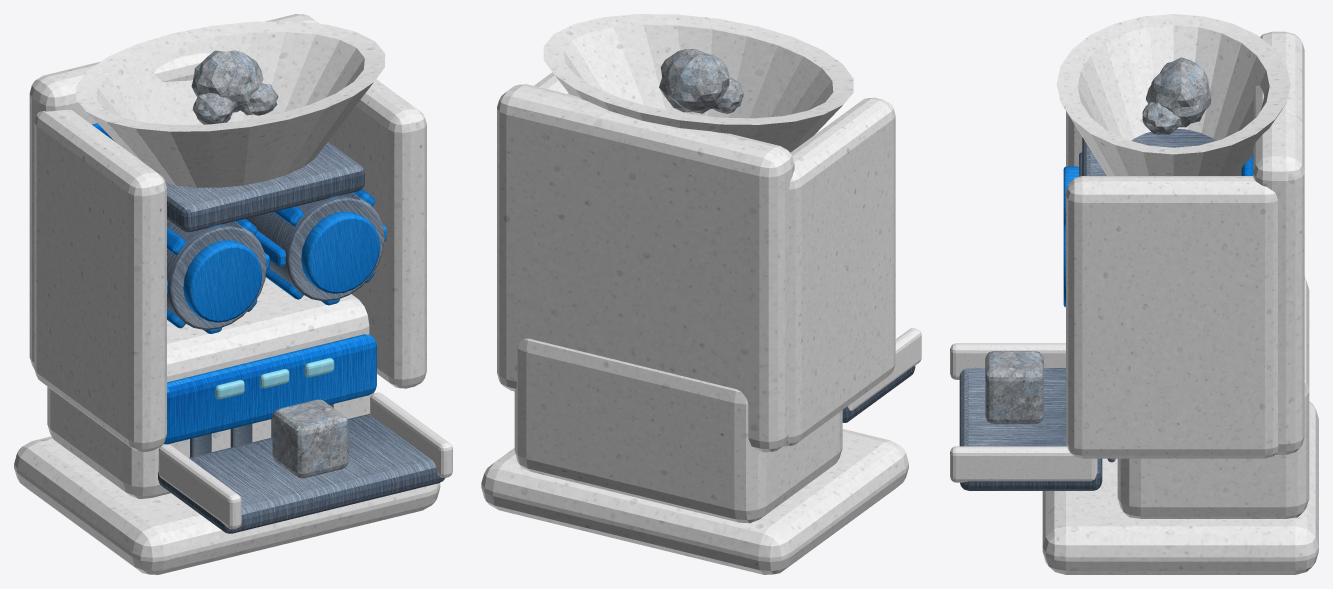
The model's file is StoneProcessor.fbx.
3 renders of one model, left to right at view 1: azimuth 30°, elevation 25°; view 2: azimuth 150°, elevation 25°; view 3: azimuth 270°, elevation 25°, orthographic.
Visible parts, largest first — view 1: Housing, RollerRight, RollerLeft, PressHead, OutputStone, FeedStone; view 2: Housing, FeedStone; view 3: Housing, OutputStone, FeedStone, PressHead, RollerLeft.
Boxes of the visible parts, left/top/right/bottom form: Housing: left=14, top=14, right=452, bottom=574; RollerRight: left=246, top=189, right=386, bottom=305; RollerLeft: left=167, top=218, right=269, bottom=333; PressHead: left=165, top=142, right=364, bottom=232; OutputStone: left=272, top=399, right=348, bottom=478; FeedStone: left=191, top=50, right=278, bottom=124; Housing: left=481, top=14, right=921, bottom=574; FeedStone: left=659, top=49, right=744, bottom=113; Housing: left=950, top=14, right=1318, bottom=574; OutputStone: left=985, top=351, right=1043, bottom=424; FeedStone: left=1142, top=57, right=1211, bottom=134; PressHead: left=1082, top=129, right=1215, bottom=175; RollerLeft: left=1063, top=152, right=1241, bottom=225.
Bounding box in the file's own units: 1.5 × 2.1 × 1.57.
